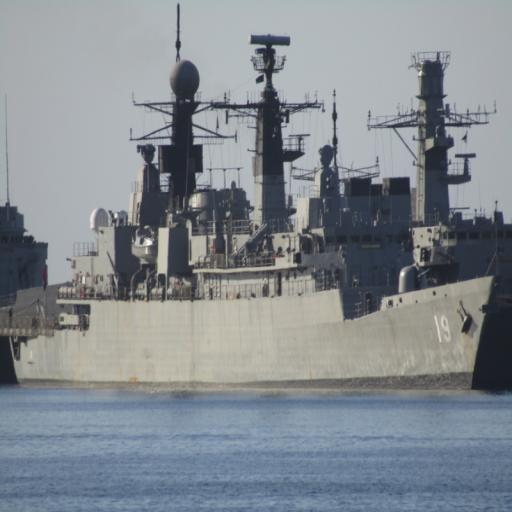Fragata: (5, 57, 507, 396)
